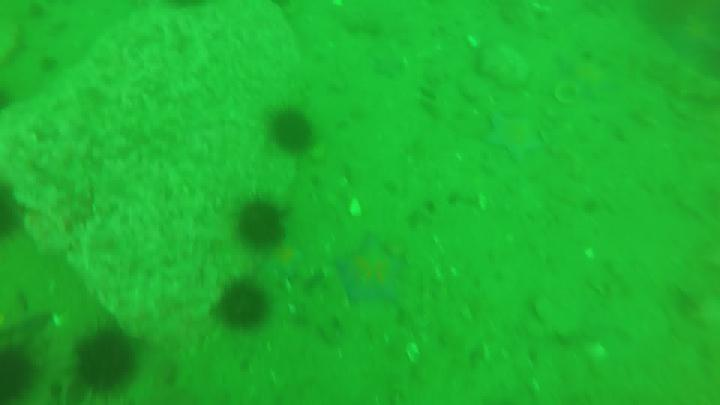echinus: (72, 320, 135, 390), (213, 278, 269, 330), (237, 195, 288, 250), (1, 338, 37, 405), (266, 106, 314, 153), (2, 177, 25, 237)
scallop: (555, 83, 583, 106), (586, 343, 610, 361)
starfish: (332, 238, 407, 304), (484, 115, 542, 162)
